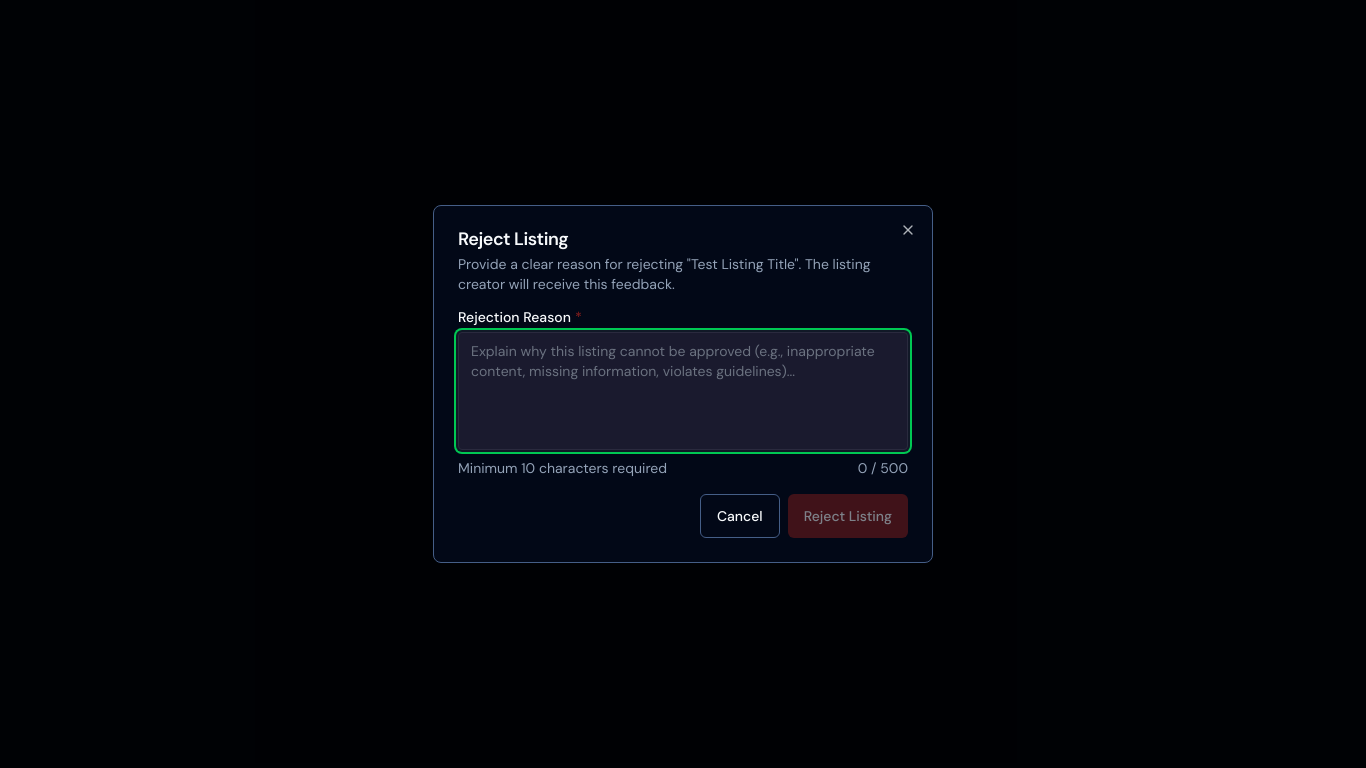
it: RejectListingModal › shows loading state during submission
Step 1. Type "This listing violates our content policy" into the text box labelled "Rejection Reason*" → (683, 391), box x1=458 y1=332 x2=908 y2=450
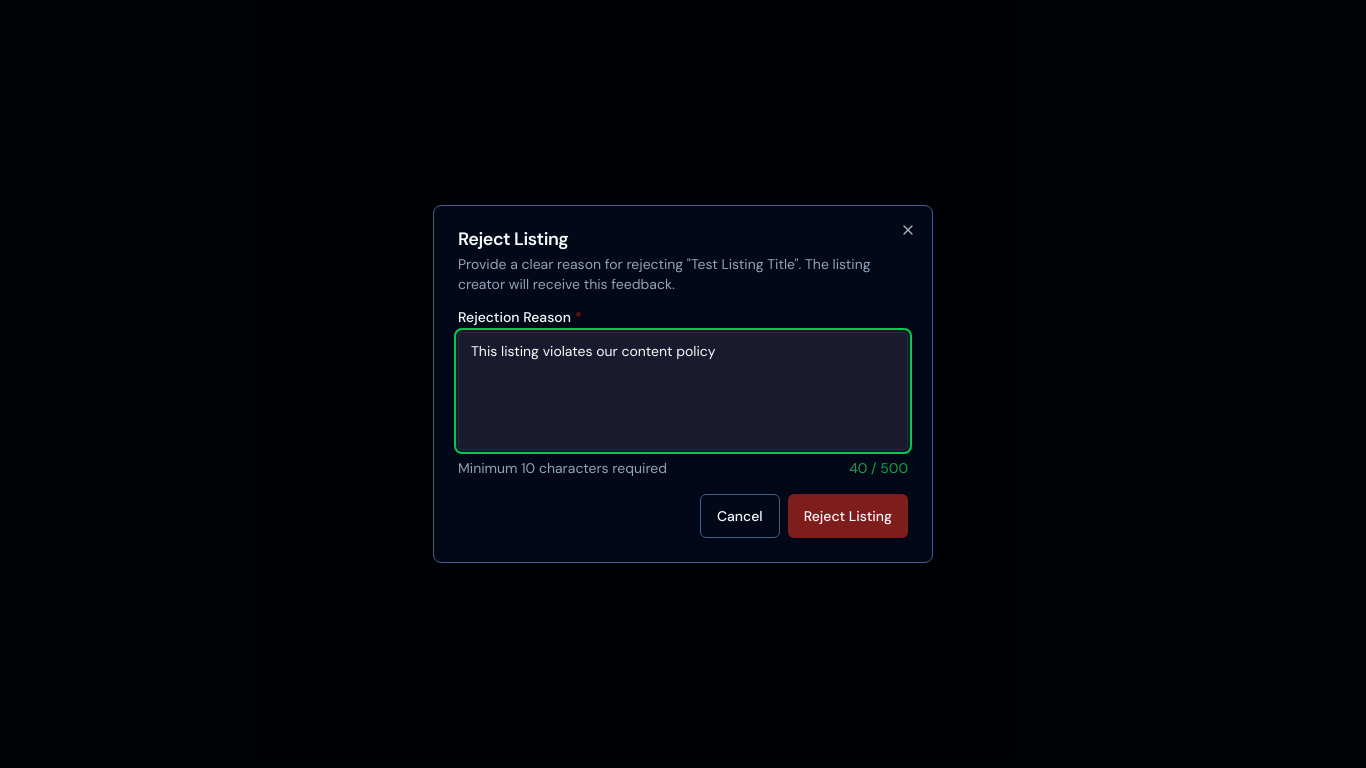
Step 2. Click the button "Reject Listing" → (848, 516), box x1=788 y1=494 x2=908 y2=538
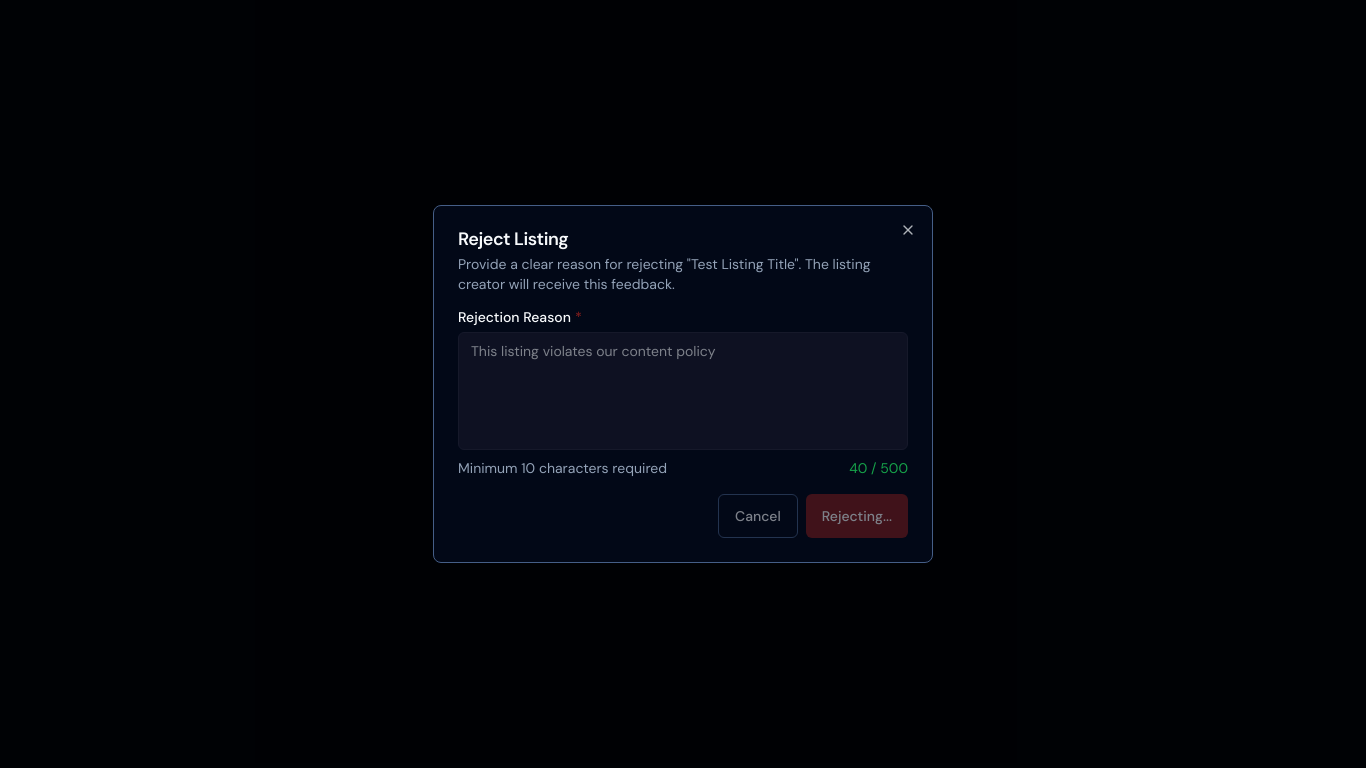
Expected: the text box labelled "Rejection Reason*" is disabled, x1=458 y1=332 x2=908 y2=450
Expected: the button "Rejecting..." is disabled, x1=806 y1=494 x2=908 y2=538
